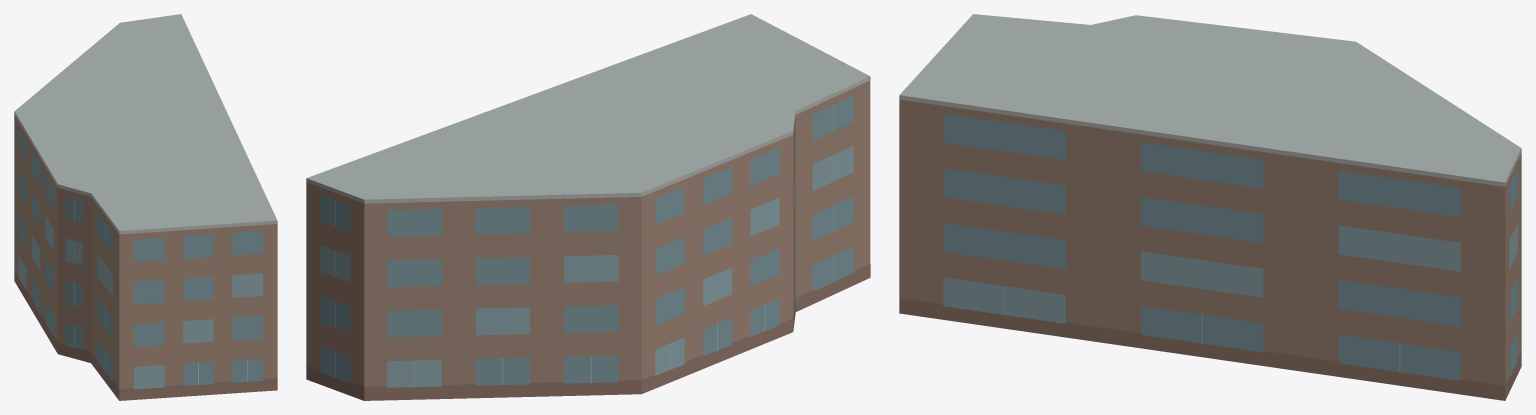
The model's file is survey-upis-32485209.glb.
3 views of the same model, side by side, from view 1: azimuth 30°, elevation 25°; view 2: azimuth 150°, elevation 25°; view 3: azimuth 270°, elevation 25° (orthographic). The views are drawn at different scales.
Visible parts, largest first — view 1: survey-upis-32485209.tmp; view 2: survey-upis-32485209.tmp; view 3: survey-upis-32485209.tmp.
Part boxes in pixels (<box>): survey-upis-32485209.tmp: <box>14,14,277,400</box>; survey-upis-32485209.tmp: <box>306,14,870,400</box>; survey-upis-32485209.tmp: <box>899,14,1521,400</box>.
Size of the model in its own units: 20.22 by 12.2 by 31.53.
